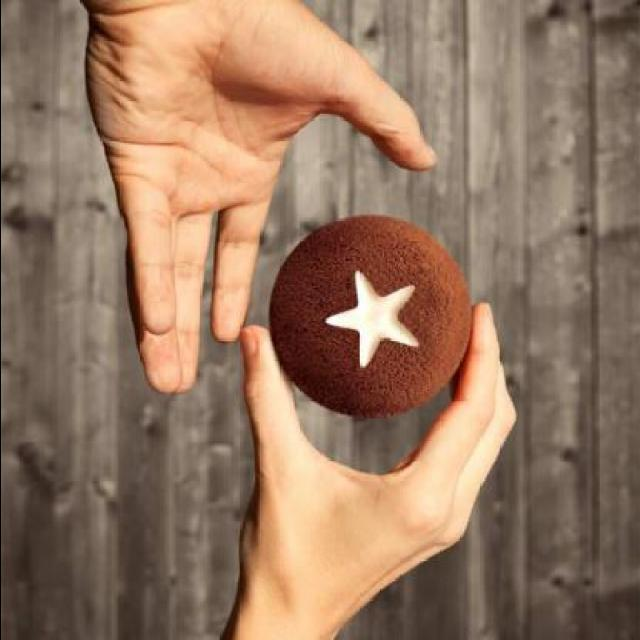Merendine packaged: (268, 210, 476, 427)
